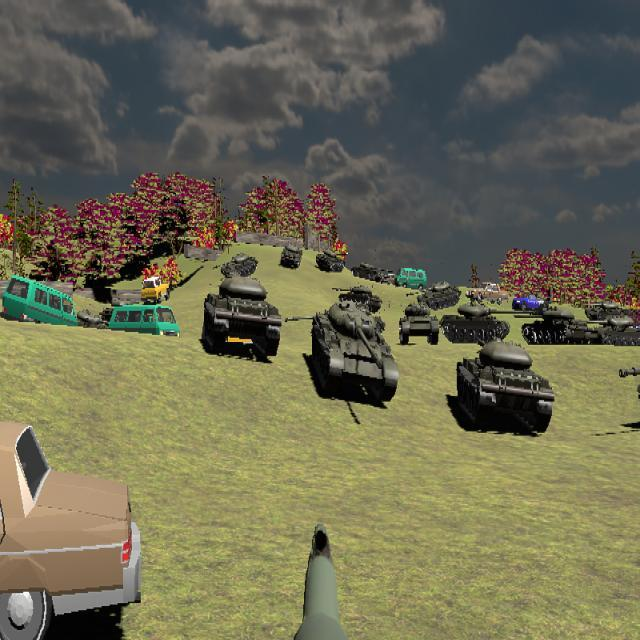Tank: (456, 339, 554, 434), (311, 300, 399, 403), (203, 275, 282, 357), (440, 301, 525, 346), (515, 308, 587, 346), (583, 314, 640, 348), (618, 350, 640, 433), (399, 302, 439, 346), (408, 281, 461, 309), (331, 284, 383, 312), (416, 281, 461, 309), (214, 252, 258, 278), (580, 300, 627, 321), (351, 262, 390, 283), (315, 247, 346, 273), (280, 239, 303, 269)
car: (1, 418, 145, 640), (1, 275, 78, 342), (108, 304, 180, 347), (465, 281, 509, 306), (512, 290, 548, 317), (141, 276, 169, 305), (395, 267, 427, 292)
